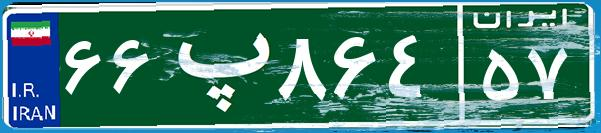4: (385, 28, 445, 110)
5: (475, 38, 525, 113)
6: (330, 28, 385, 110), (57, 26, 110, 107), (110, 28, 158, 105)
7: (525, 38, 570, 115)
8: (273, 28, 330, 110)
پ: (158, 15, 273, 115)
